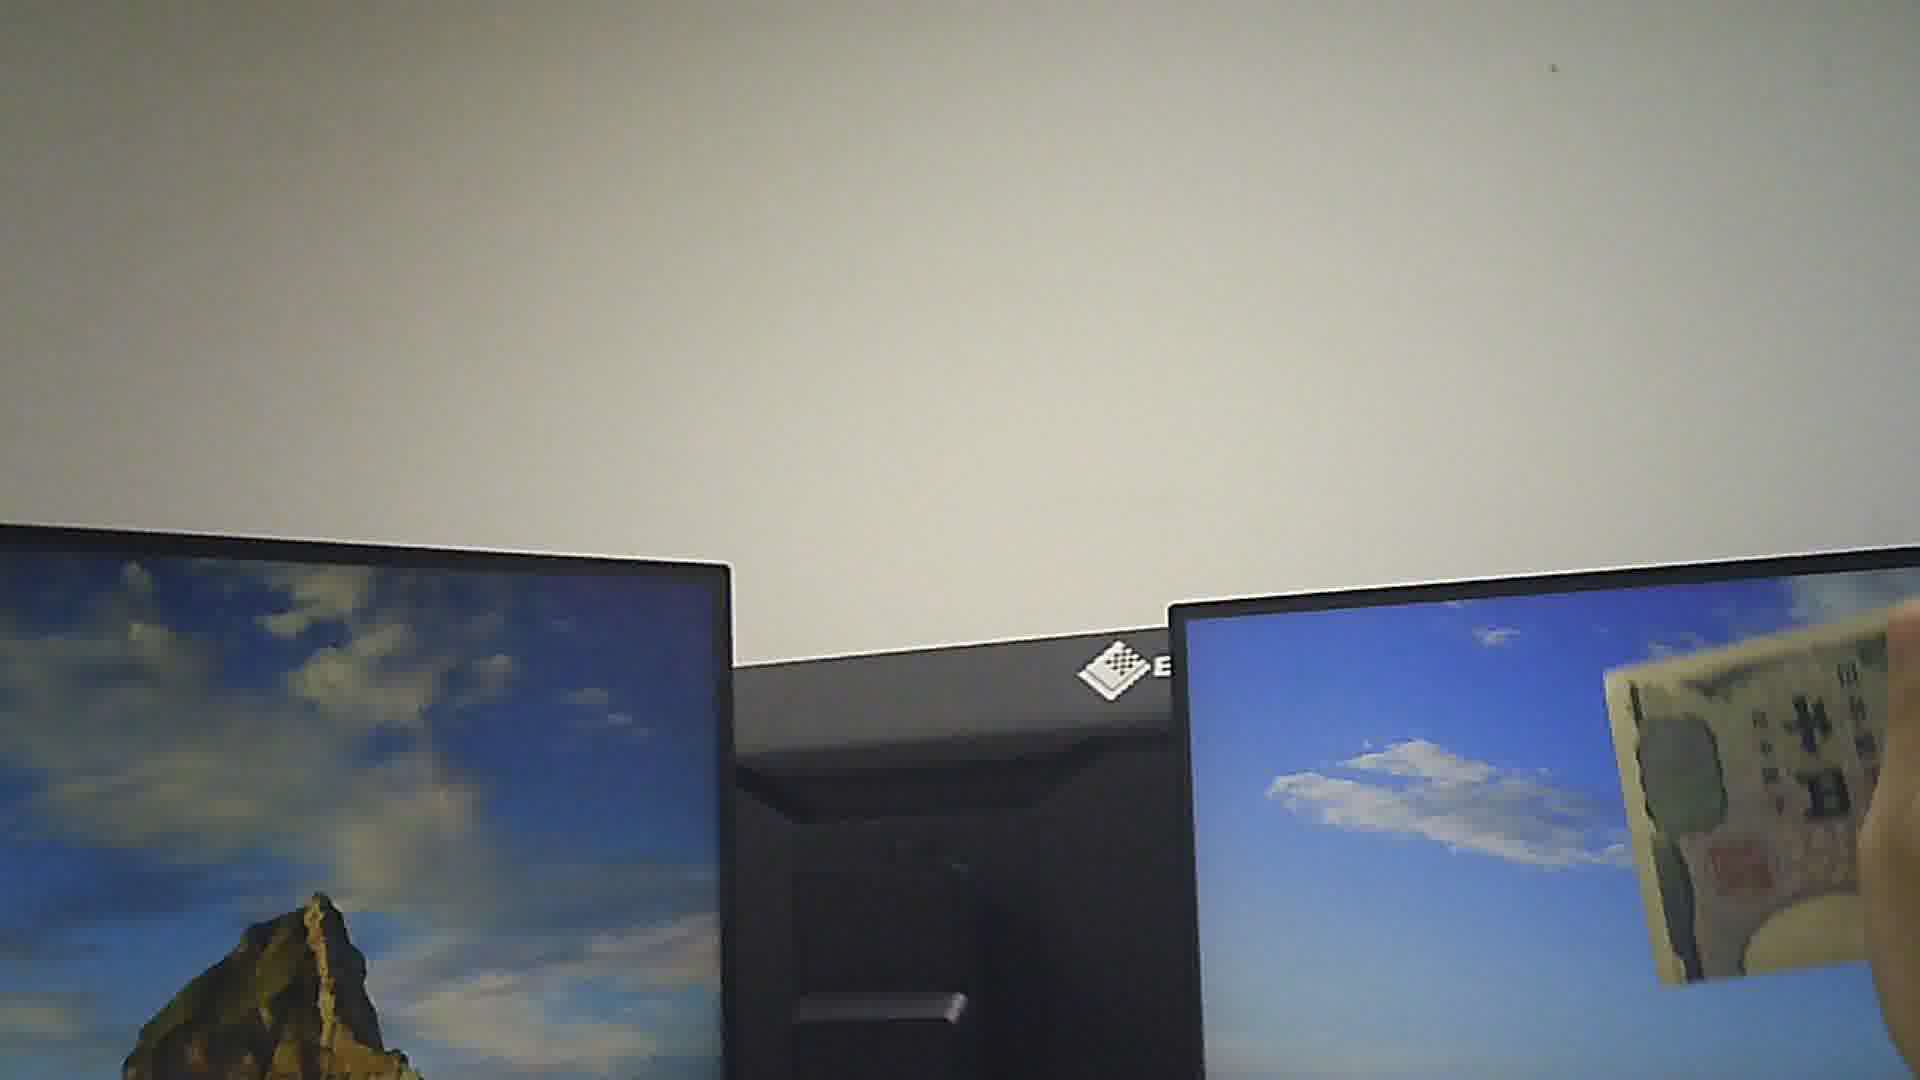1,000 Yen: (1607, 618, 1919, 1014)
